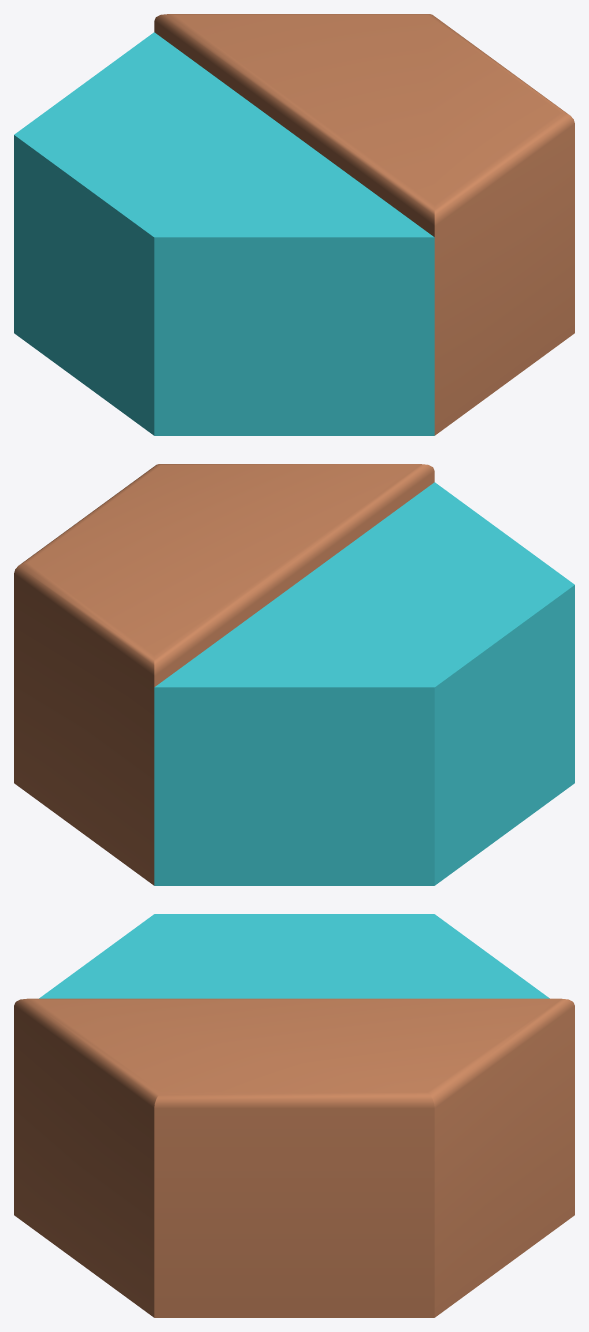
Rendered from hex_rock_waterB.glb.
The picture shows the model from 3 angles, top to bottom: view 1: azimuth 30°, elevation 25°; view 2: azimuth 150°, elevation 25°; view 3: azimuth 270°, elevation 25°; orthographic projection.
Visible parts, largest first — view 1: hex_rock_waterB; view 2: hex_rock_waterB; view 3: hex_rock_waterB.
Part boxes in pixels (x1,y1,x2,y2): hex_rock_waterB: [14, 14, 574, 435]; hex_rock_waterB: [14, 464, 574, 885]; hex_rock_waterB: [14, 914, 574, 1317].
Bounding box in the file's own units: 3.82 × 1.91 × 4.41.
